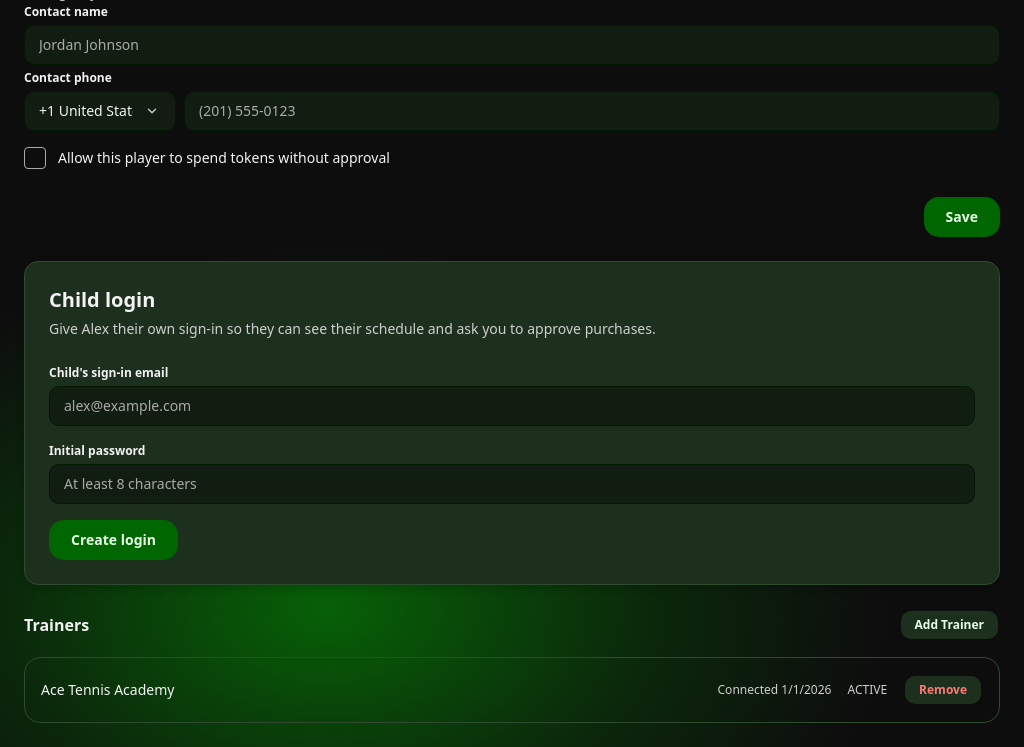
Test: ProfileDetailPage › opens AddTrainerModal from "Add Trainer" and refetches the trainer list on success
(page scrolled)
Click the button "Add Trainer" at (949, 625), box [898,609,1000,641]
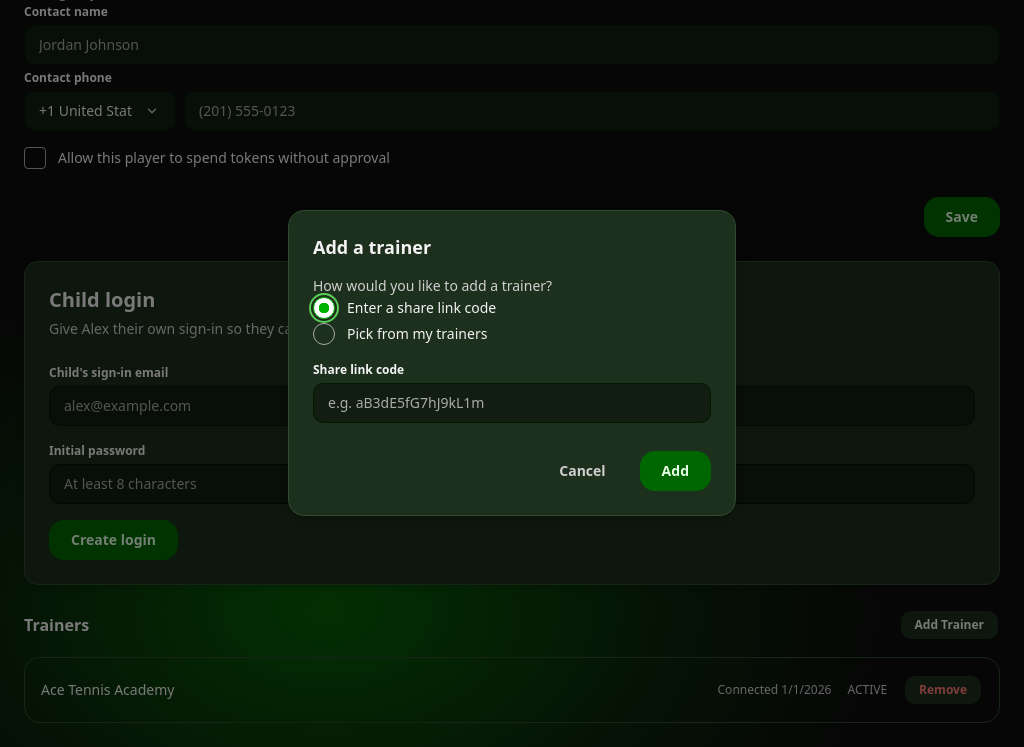
Type "XYZ789" into the field labelled "Share link code" at (512, 403), box [313,383,711,423]
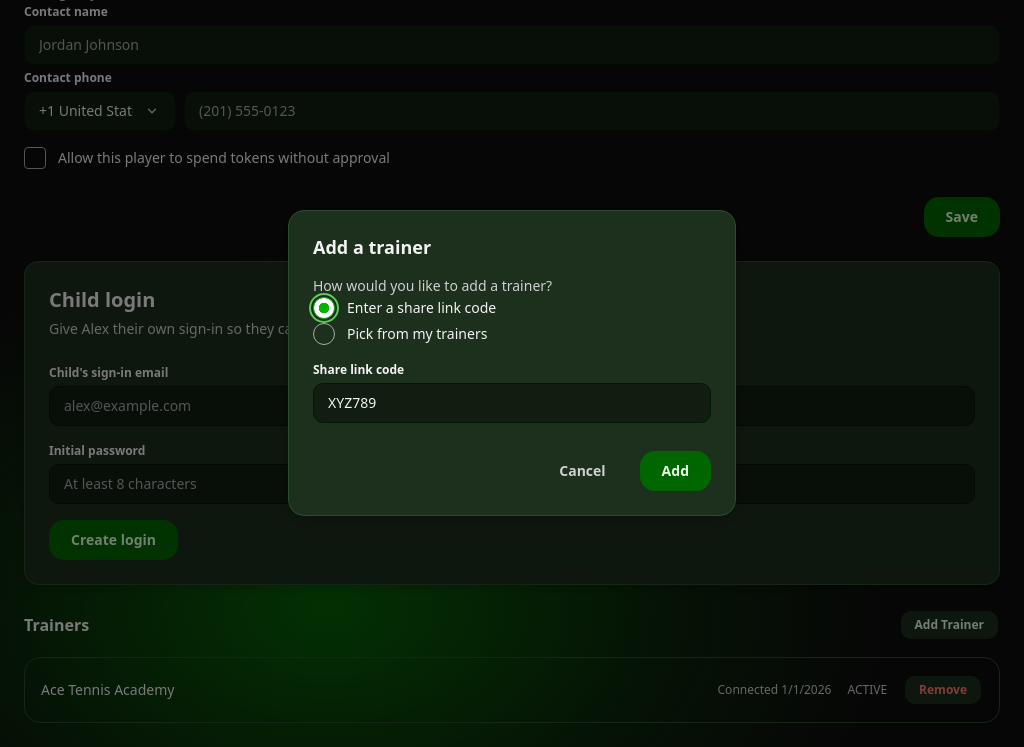
Click the button "Add" at (675, 471), box [640,451,711,491]
(page scrolled)
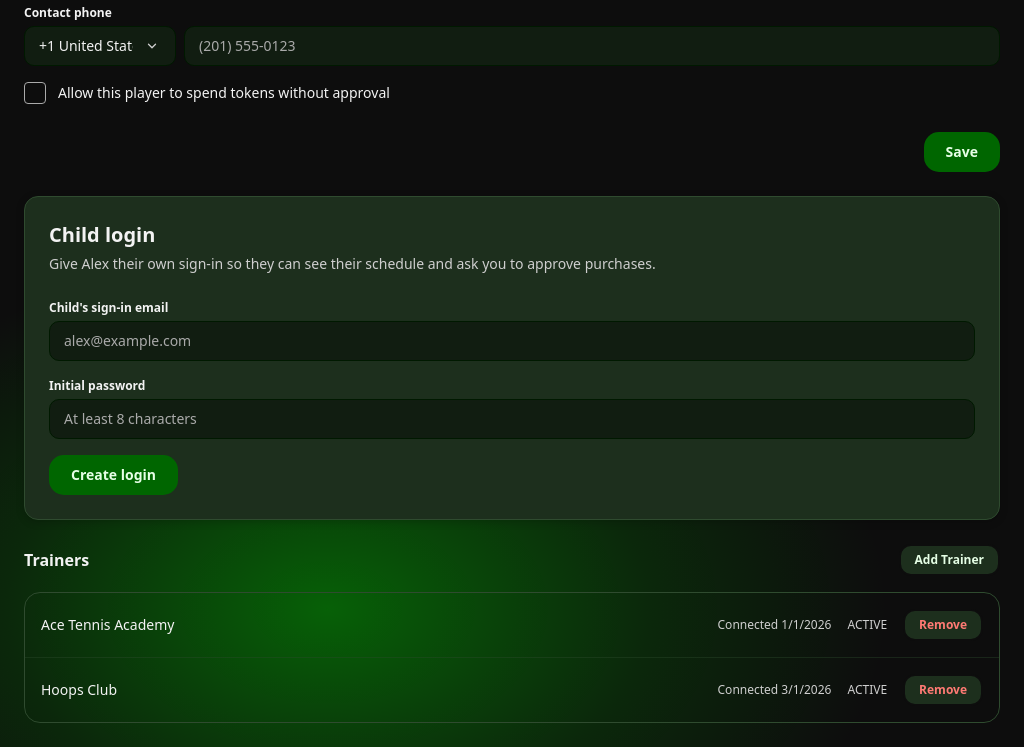
Result: the dialog is gone
Result: the text "Hoops Club" is shown at [41,680,117,699]
